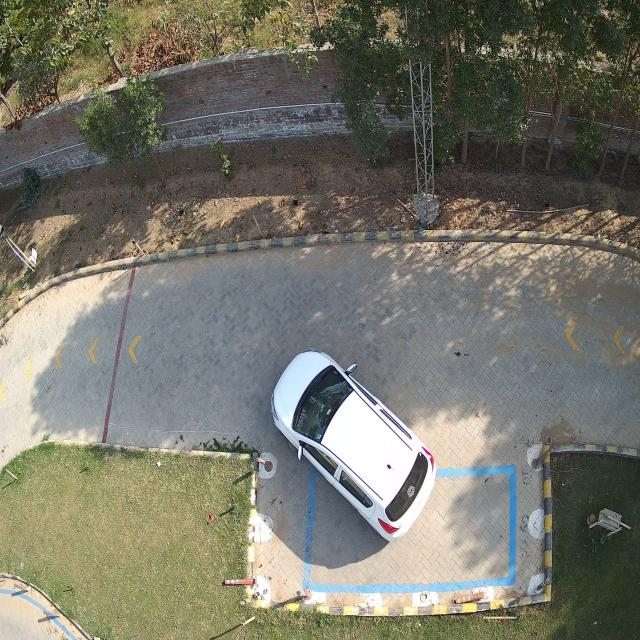car: (271, 350, 436, 540)
